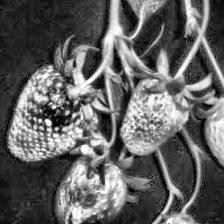Powdery Mildew Fruit: (7, 64, 101, 162), (118, 74, 191, 156)
